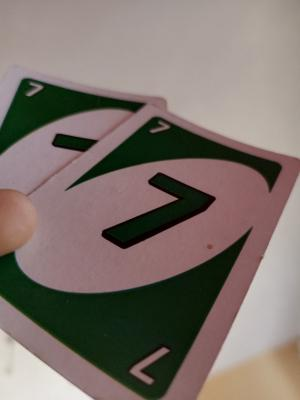num_7: (101, 125, 214, 370), (118, 326, 171, 393), (141, 114, 176, 147), (23, 77, 47, 104)
